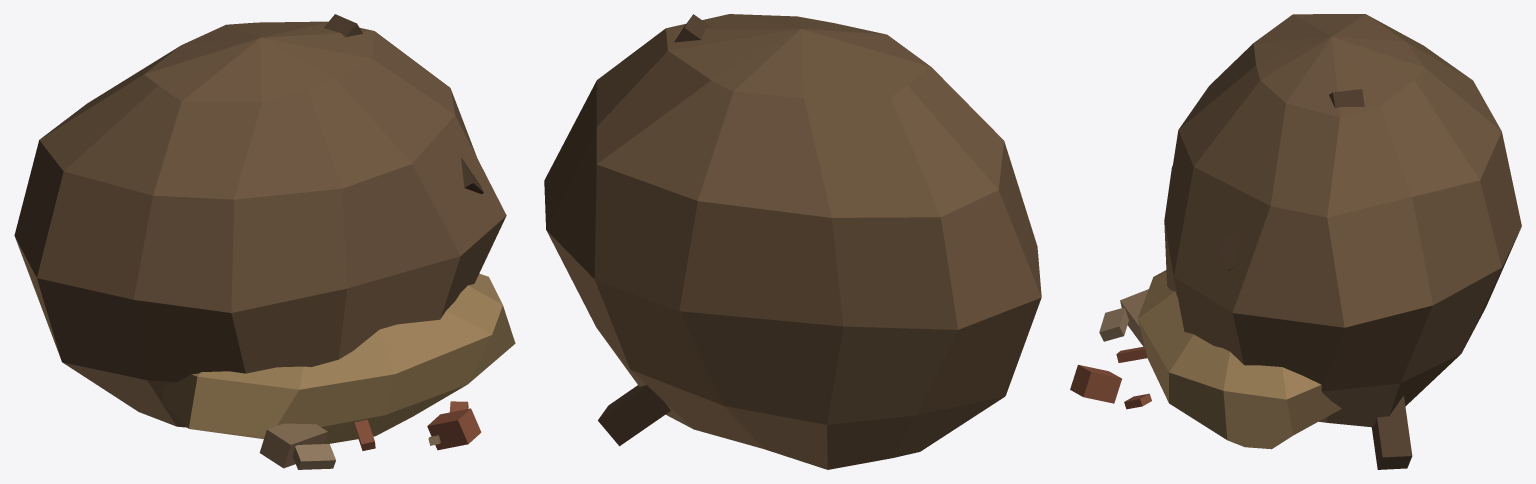
File: TownMouthPlug.glb
The picture shows the model from 3 angles, left to right: view 1: azimuth 30°, elevation 25°; view 2: azimuth 150°, elevation 25°; view 3: azimuth 270°, elevation 25°; orthographic projection. The views are drawn at different scales.
Parts seen in each view (by area): view 1: TownMouthPlug.001; view 2: TownMouthPlug.001; view 3: TownMouthPlug.001.
Boxes of the visible parts, <box> form: TownMouthPlug.001: <box>14,14,515,469</box>; TownMouthPlug.001: <box>544,14,1041,469</box>; TownMouthPlug.001: <box>1070,14,1521,469</box>.
Bounding box in the file's own units: 3.98 × 3.24 × 3.57.
